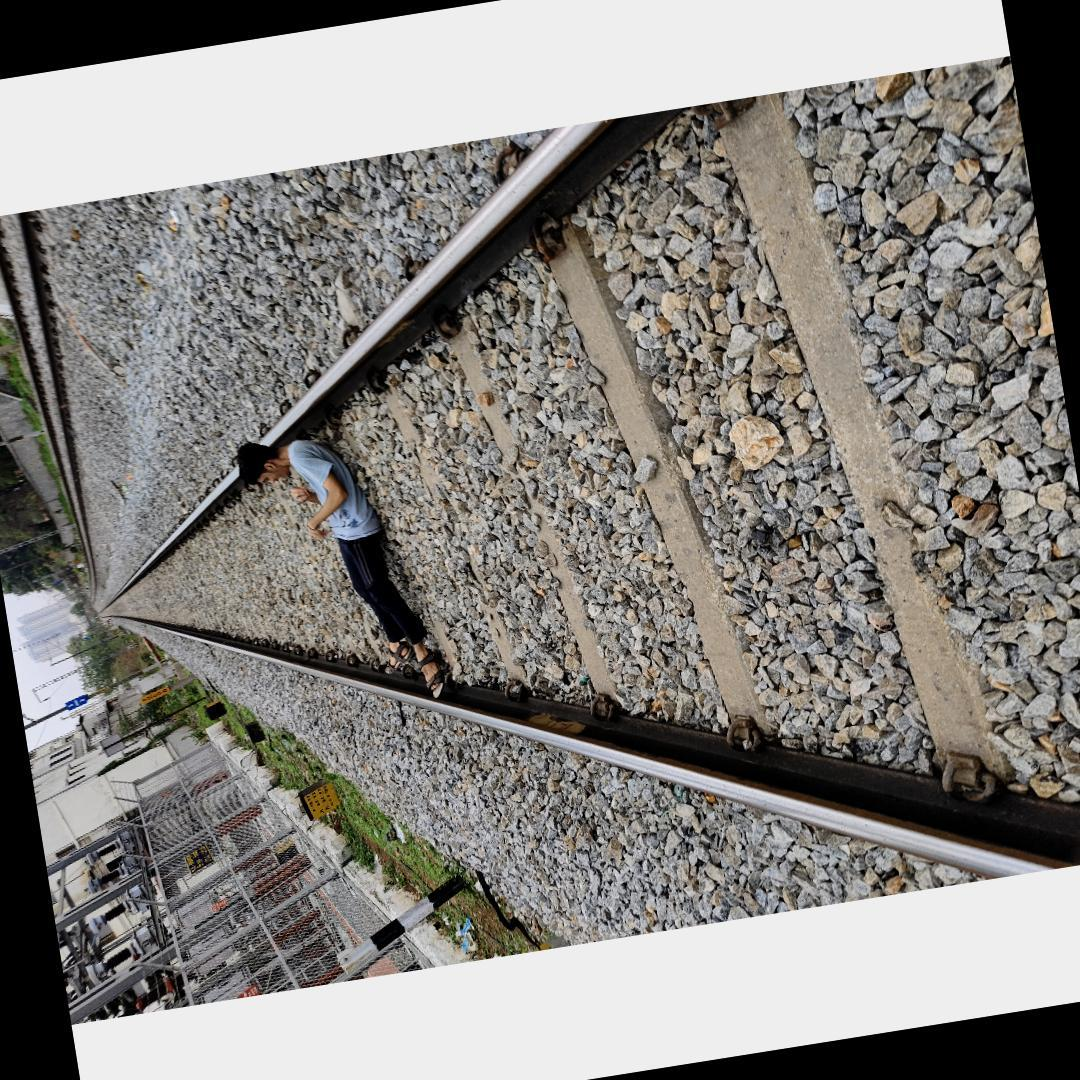sleeping: (230, 416, 453, 726)
track: (84, 56, 1080, 888)
